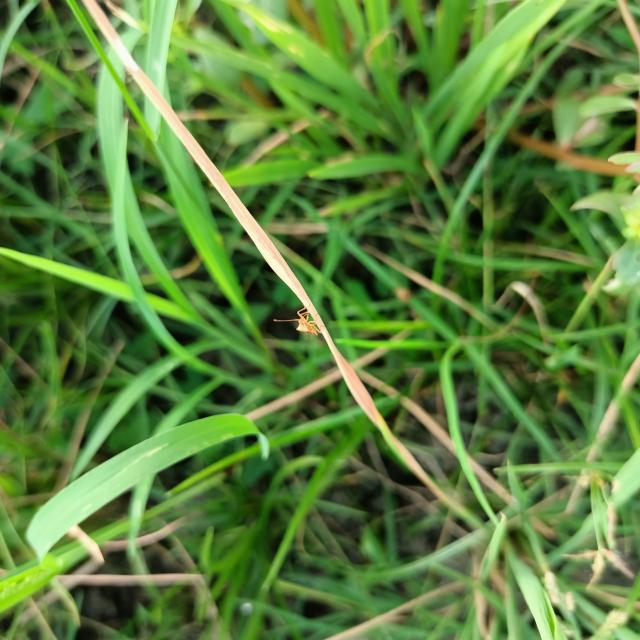walang sangit pada tanaman padi: (272, 301, 341, 349)
